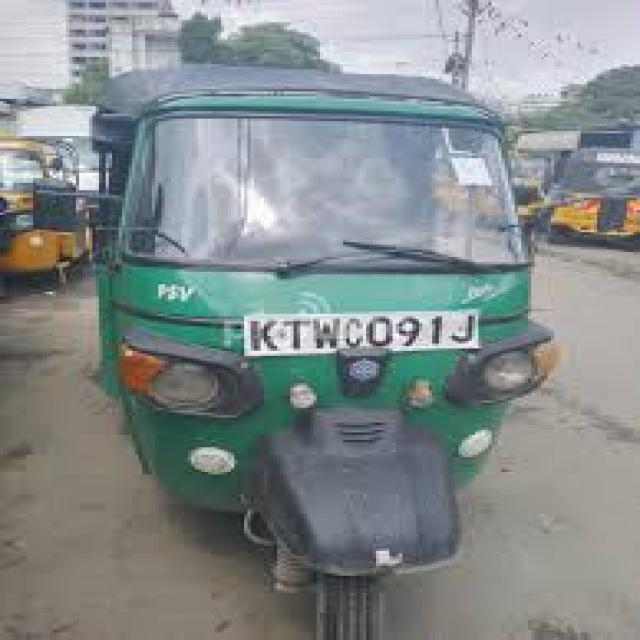tuktuk: (41, 11, 620, 640)
